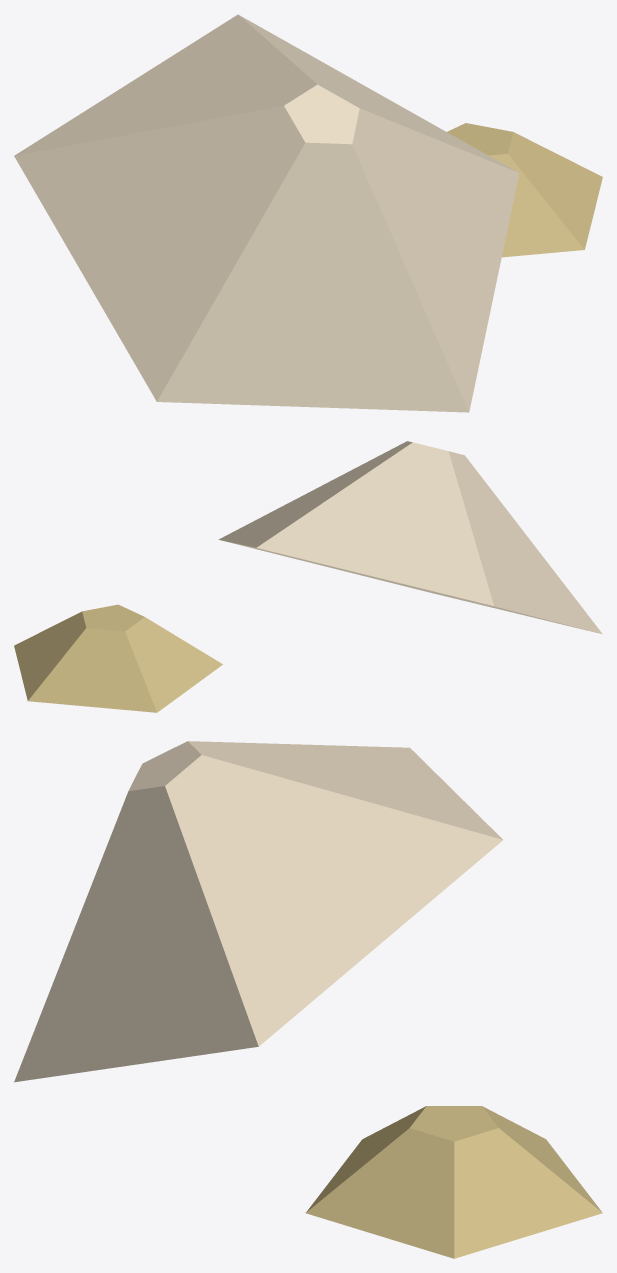
The model's file is prop_shell.glb.
The picture shows the model from 3 angles, top to bottom: view 1: azimuth 30°, elevation 25°; view 2: azimuth 150°, elevation 25°; view 3: azimuth 270°, elevation 25°; orthographic projection. The views are drawn at different scales.
Parts seen in each view (by area): view 1: prop_shell; view 2: prop_shell; view 3: prop_shell.
Part boxes in pixels (x1,y1,x2,y2): prop_shell: [14, 14, 602, 412]; prop_shell: [14, 441, 602, 712]; prop_shell: [14, 741, 602, 1258].
Size of the model in its own units: 0.1907 by 0.0832 by 0.1506.
